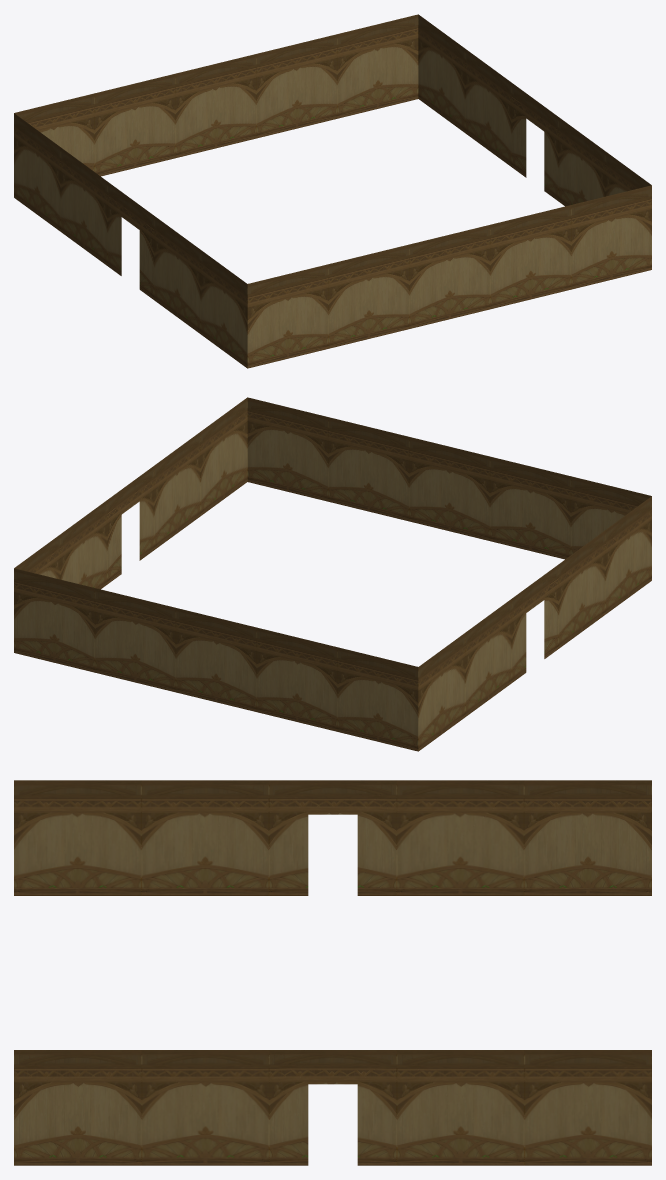
File: Homeworld_Interior_Xm_Room_Q_Filling_01_Vo.fbx
3 renders of one model, top to bottom at view 1: azimuth 30°, elevation 25°; view 2: azimuth 150°, elevation 25°; view 3: azimuth 270°, elevation 25°, orthographic. The views are drawn at different scales.
Parts seen in each view (by area): view 1: Homeworld_Interior_Xm_Room_Q_Filling_01_Vo; view 2: Homeworld_Interior_Xm_Room_Q_Filling_01_Vo; view 3: Homeworld_Interior_Xm_Room_Q_Filling_01_Vo.
Boxes of the visible parts, x1,y1,x2,y2 form: Homeworld_Interior_Xm_Room_Q_Filling_01_Vo: (14,14,651,368); Homeworld_Interior_Xm_Room_Q_Filling_01_Vo: (14,397,651,751); Homeworld_Interior_Xm_Room_Q_Filling_01_Vo: (14,780,651,1165).
Bounding box in the file's own units: 25 × 5 × 25.
